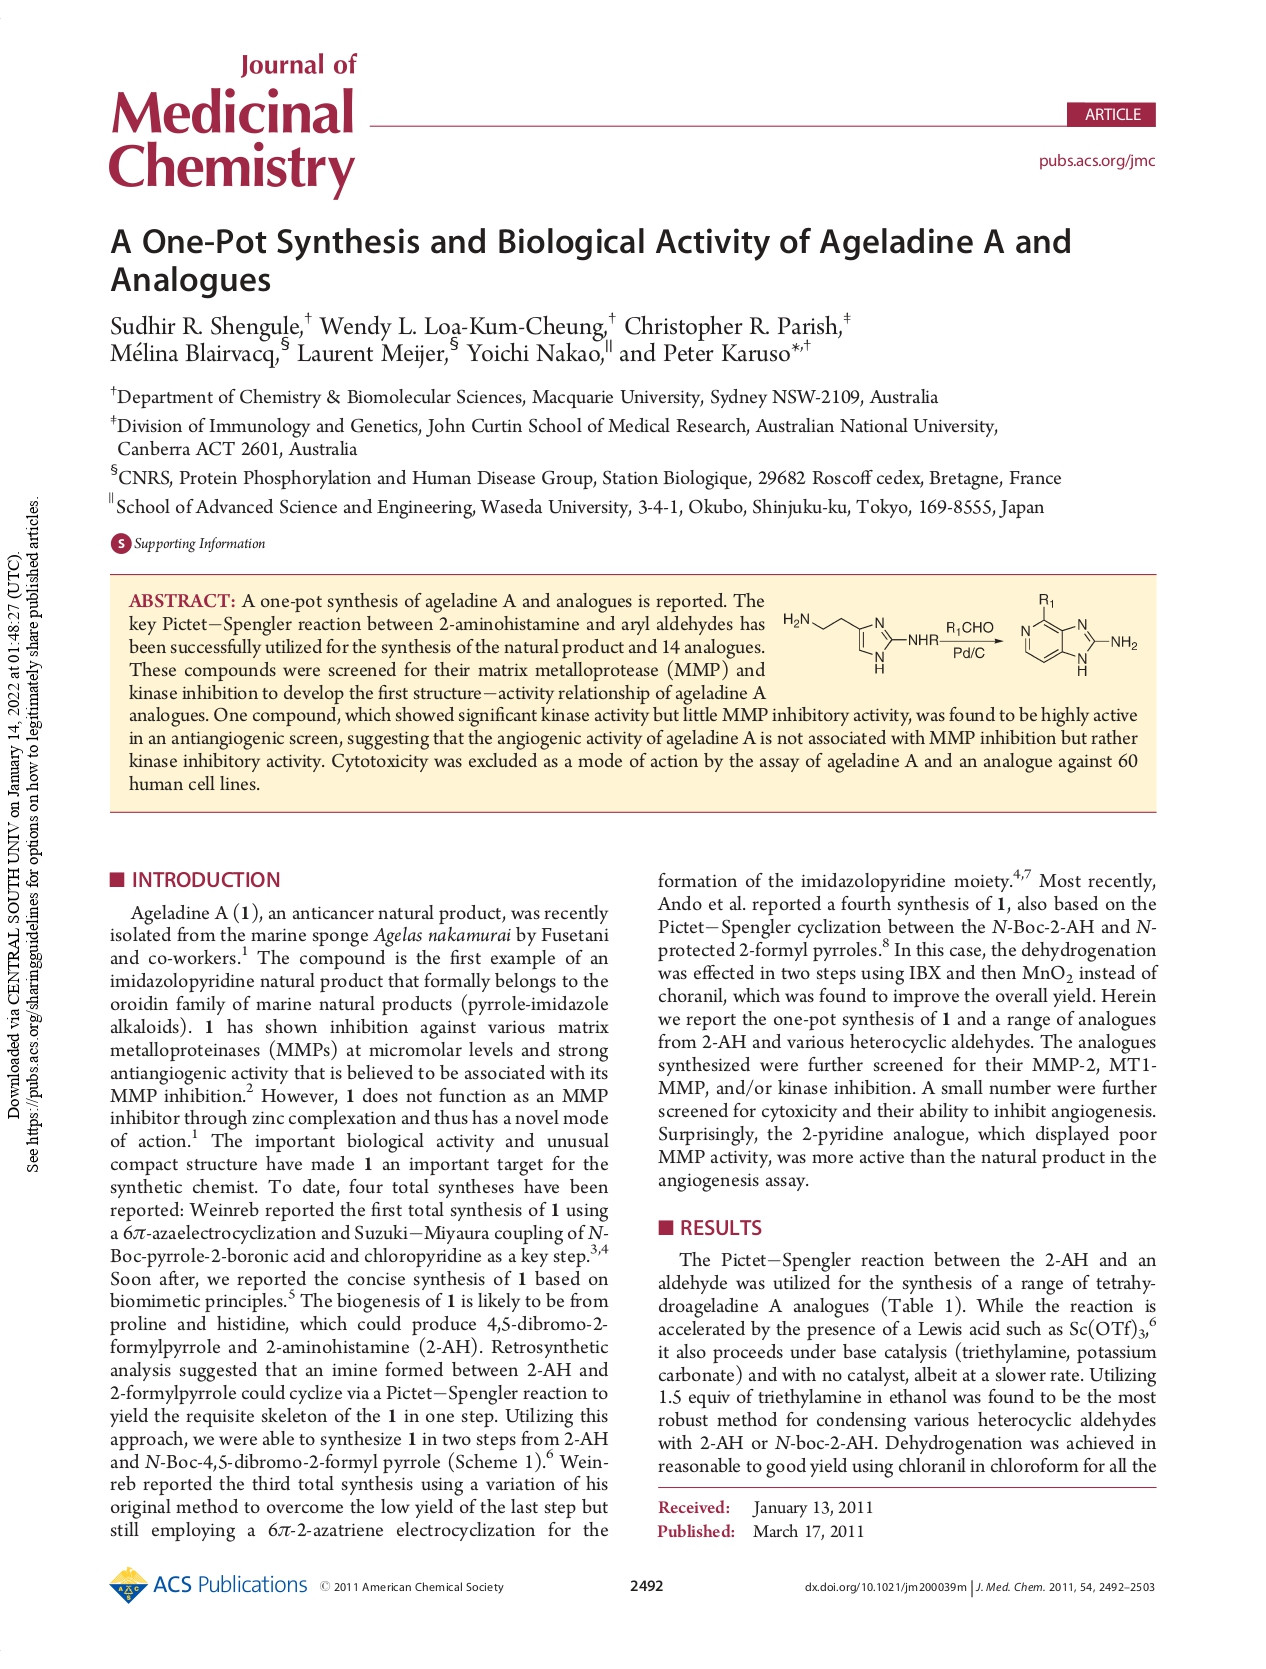exist_molecular: (778, 605, 940, 676), (1019, 590, 1138, 678)
